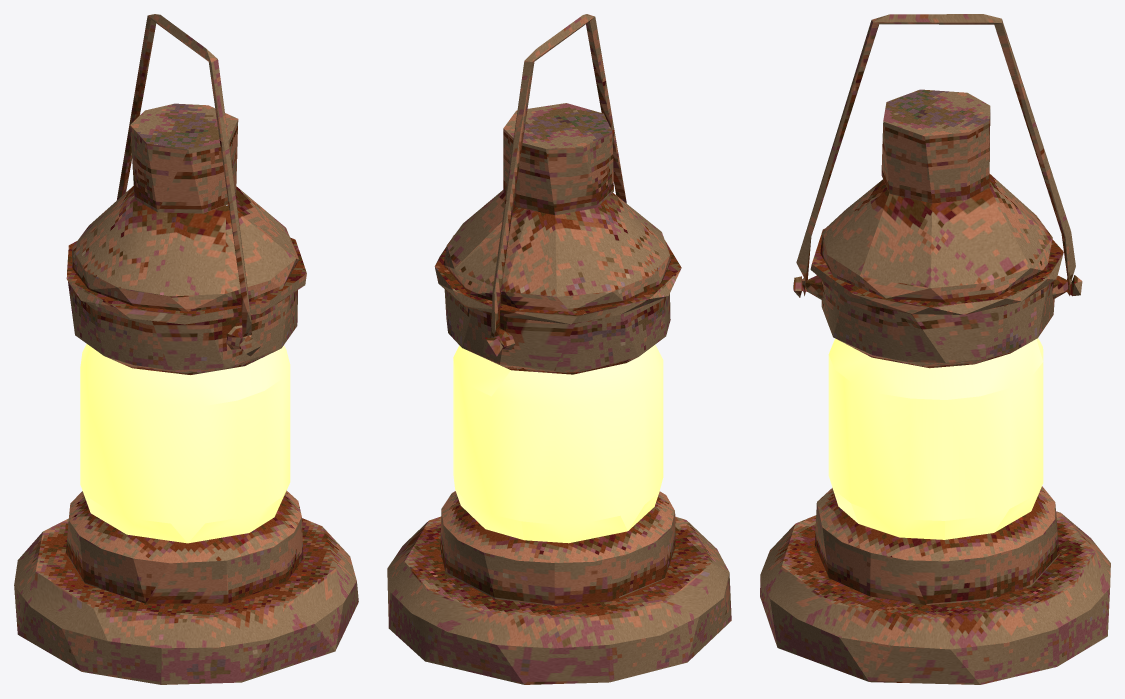
The model's file is Lantern.fbx.
The picture shows the model from 3 angles, left to right: view 1: azimuth 30°, elevation 25°; view 2: azimuth 150°, elevation 25°; view 3: azimuth 270°, elevation 25°; orthographic projection. The views are drawn at different scales.
Parts seen in each view (by area): view 1: Lantern_LOW; view 2: Lantern_LOW; view 3: Lantern_LOW.
Part boxes in pixels (bbox=[...]): Lantern_LOW: bbox=[14, 14, 358, 684]; Lantern_LOW: bbox=[387, 14, 731, 684]; Lantern_LOW: bbox=[760, 14, 1110, 684].
Size of the model in its own units: 16.71 by 31.25 by 16.66.
2 materials, 1 textured.
